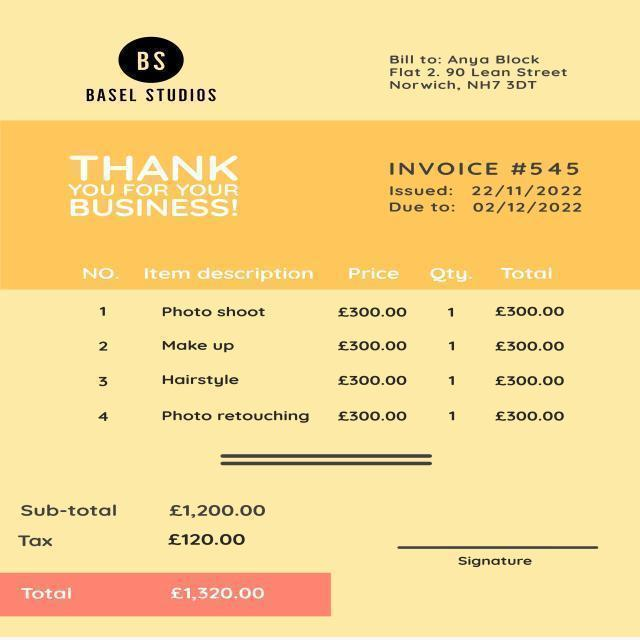paragraph: (384, 155, 592, 228), (13, 501, 273, 553), (67, 148, 243, 221), (385, 51, 577, 98), (83, 44, 220, 107), (18, 583, 282, 607), (451, 553, 545, 575)
table: (75, 263, 585, 433)
